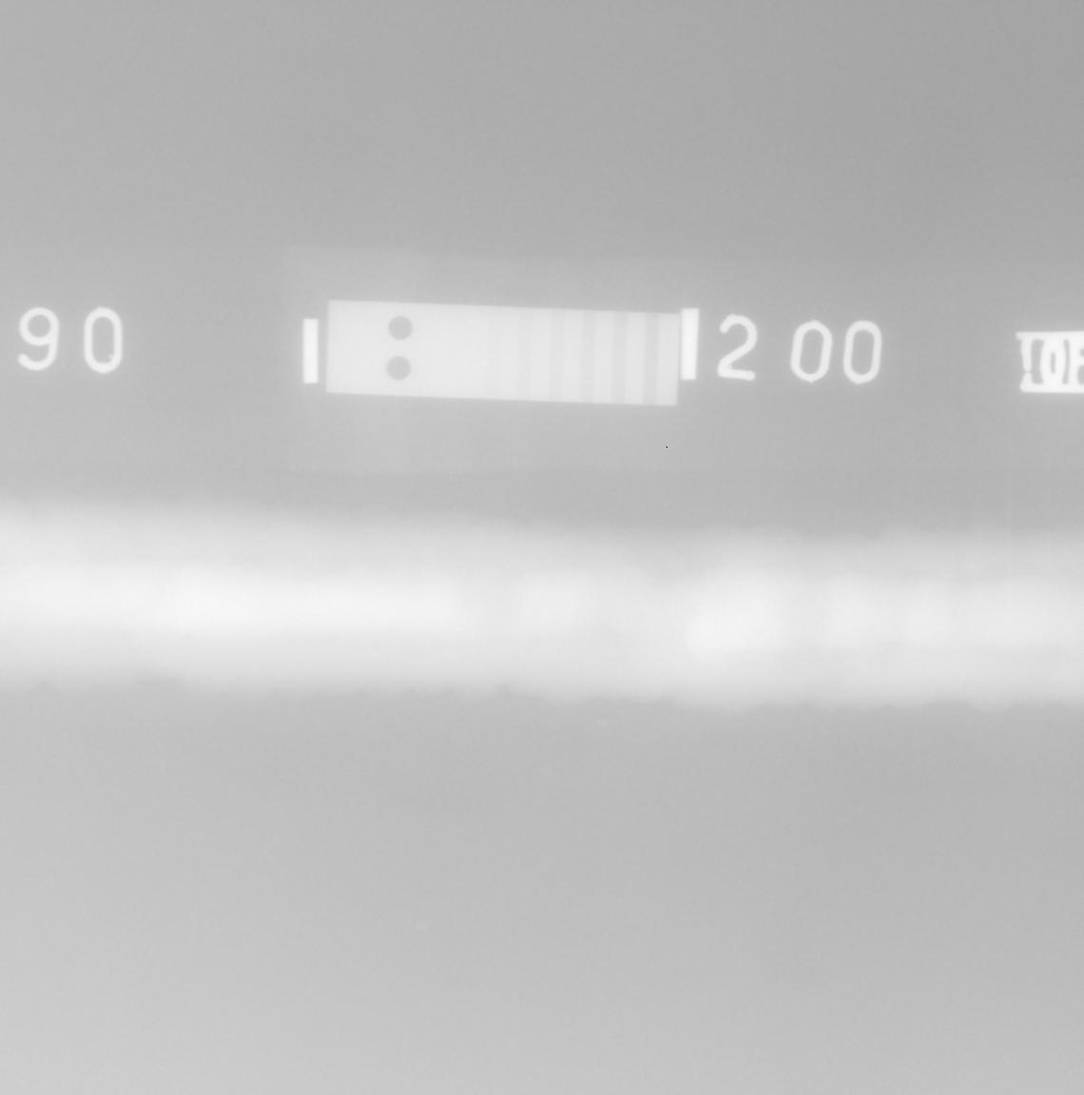Reference Standard 2: (325, 300, 679, 407)
